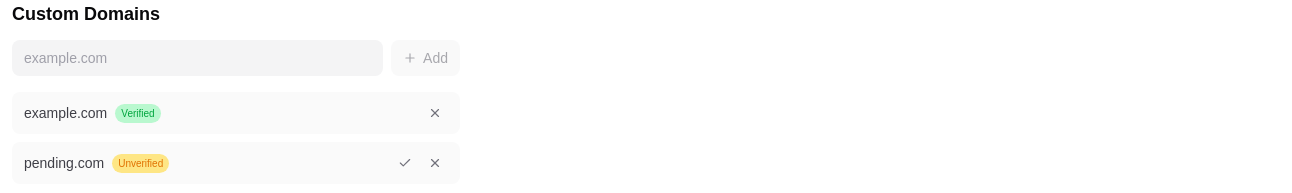
CustomDomainsSection › verifies an unverified custom domain
The image size is (1292, 193).
Click the button named "Verify domain".
click(405, 163)  # box [392,150,418,176]
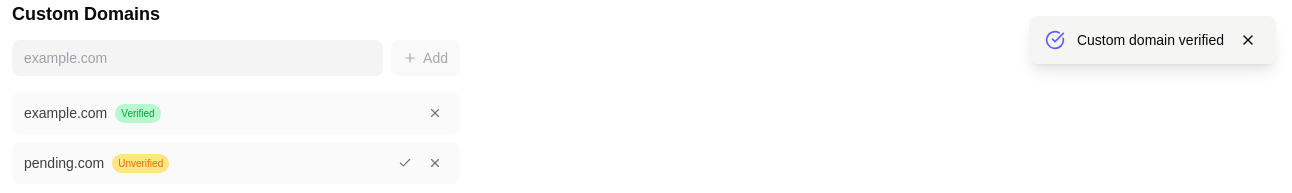
expect the text "Custom domain verified" is shown: met, box [1077,30,1224,50]
